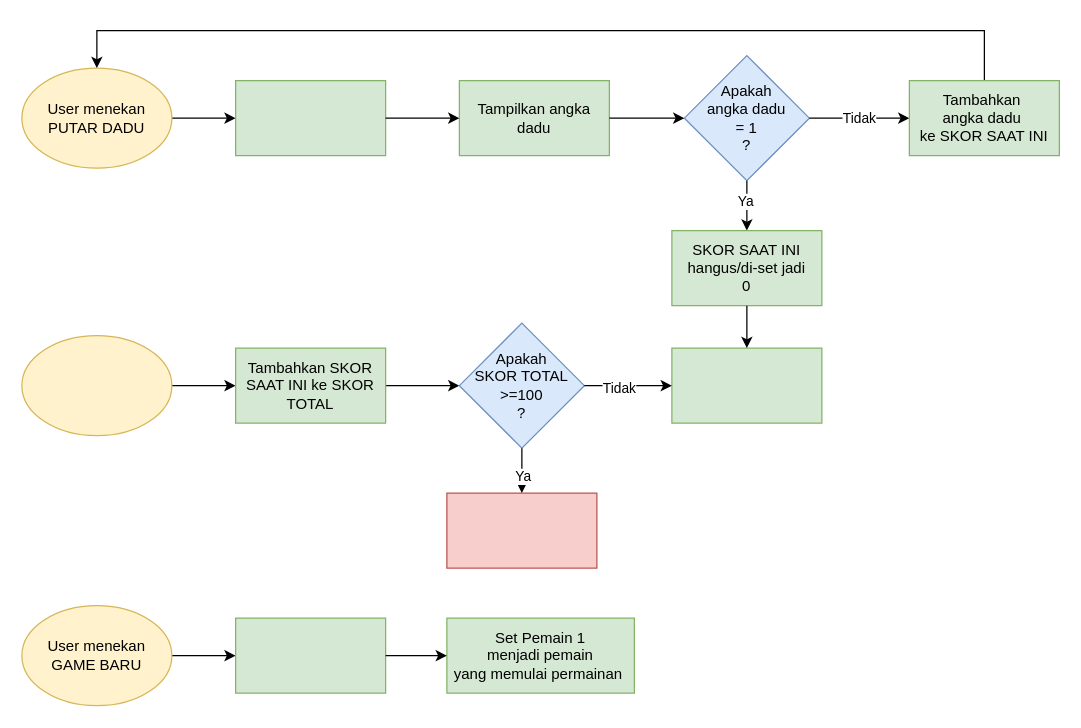
This 1081x728 diagram has some shape labels left out. The shapes that lost their labels are listed below. From the top down, each one's centre as x and y in pixels, then its label:
the point at 310,117: Acak Dadu
the point at 96,385: User menekan TAHAN
the point at 746,385: Tukar Giliran Main
the point at 521,530: Pemain Menang!
the point at 310,655: Set SKOR SAAT INI dan SKOR TOTAL jadi 0
